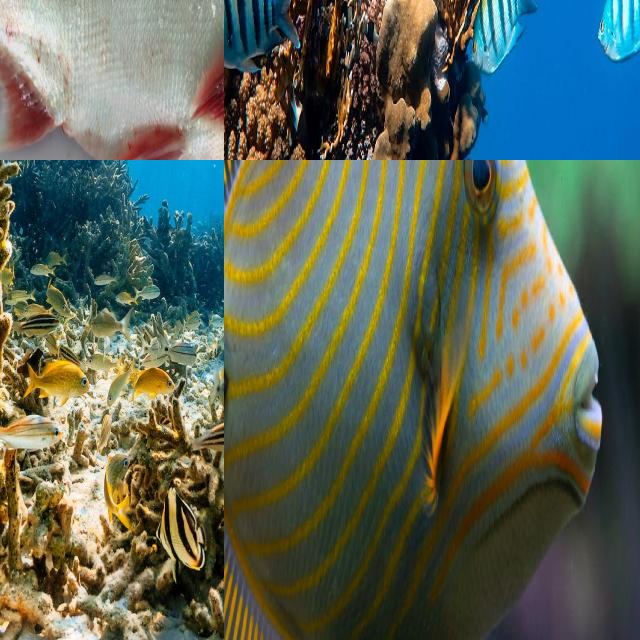fish: (224, 160, 550, 640), (0, 227, 224, 488), (0, 0, 224, 160), (396, 0, 527, 160)
